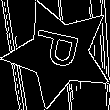P_E: (30, 30, 88, 77)
